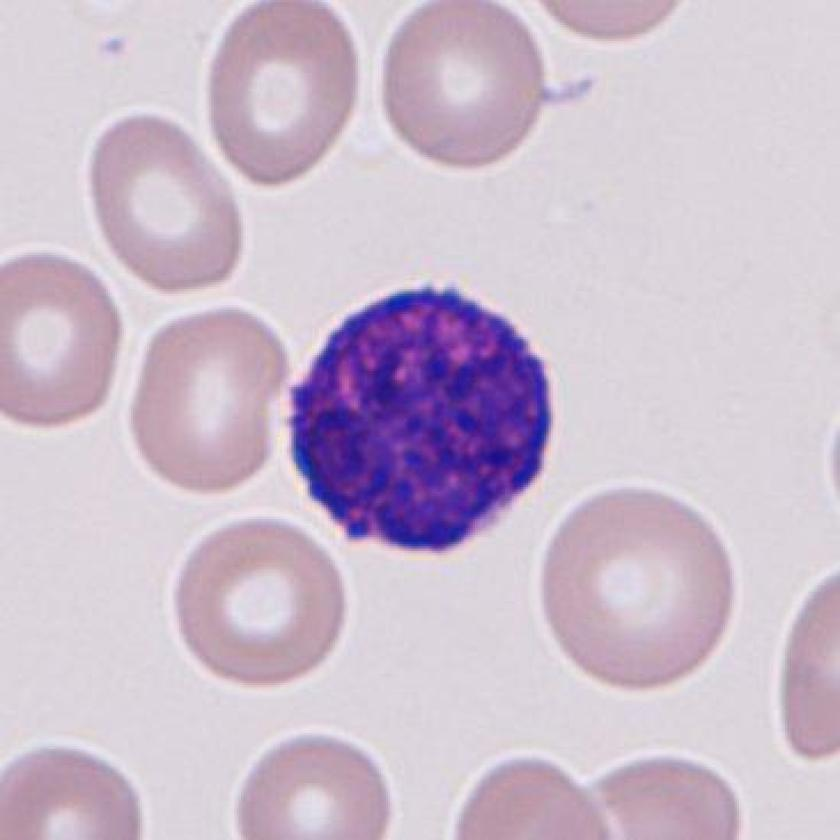basophil: (286, 283, 559, 554)
